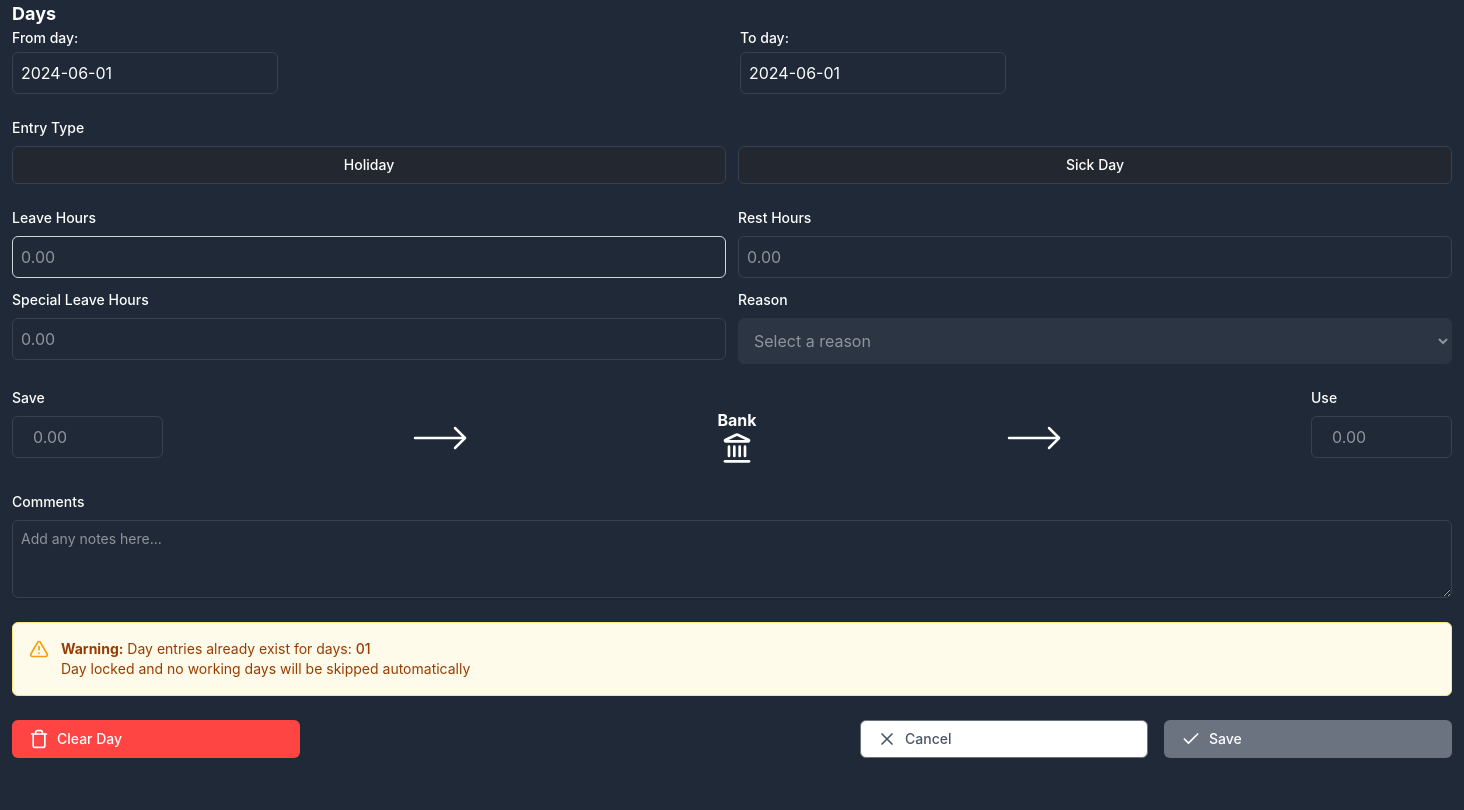
it: EditDayEntry › rejects a bank withdrawal above the hours available after task work
In the number field with test id "get-from-bank-hour-input": (1382, 437) x1=1311 y1=416 x2=1452 y2=458, type "1"
(page scrolled)
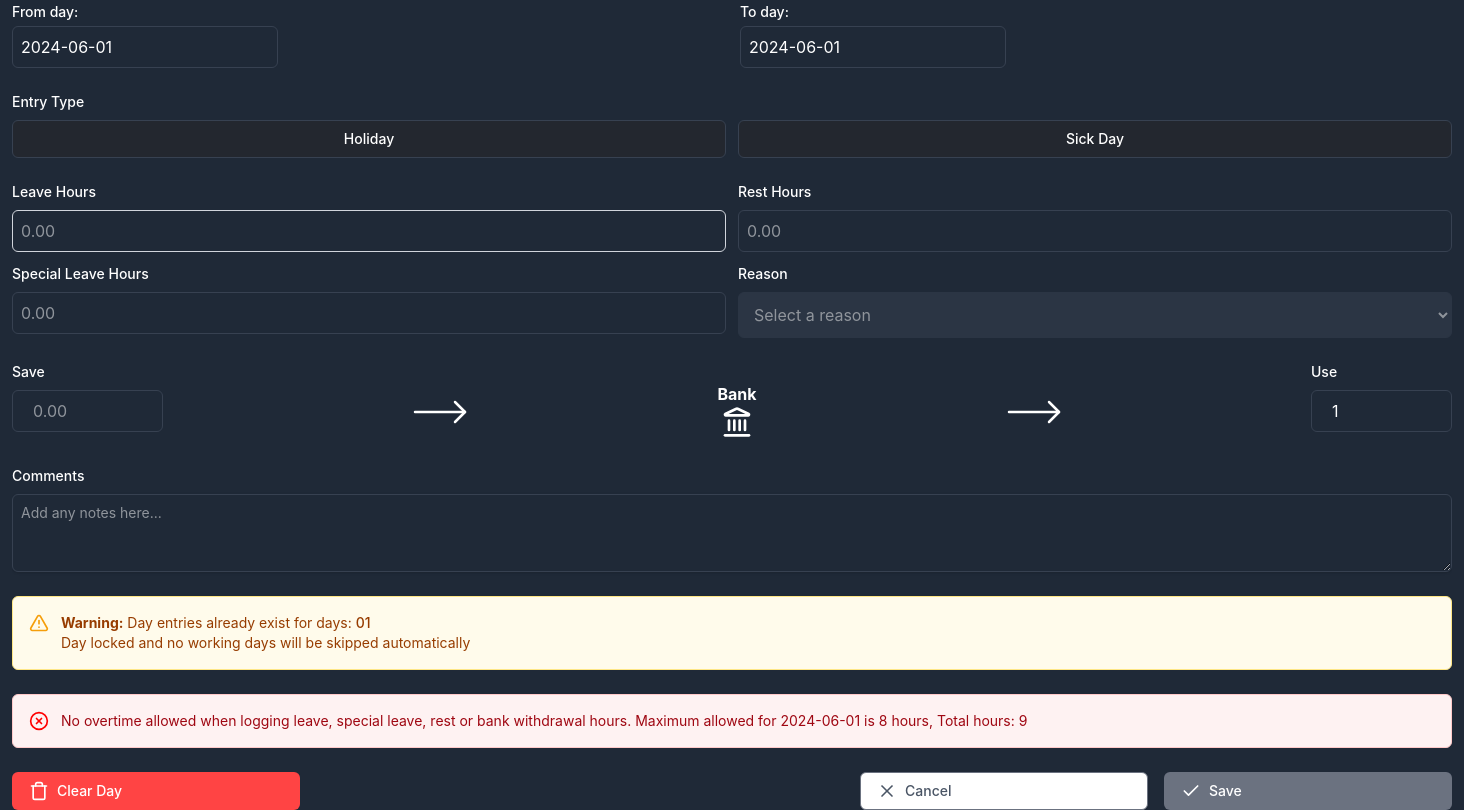
Expected: the button with test id "day-entry-submit-button" is disabled, x1=1164 y1=772 x2=1452 y2=809
Expected: the text "bank withdrawal hours" is shown, x1=61 y1=712 x2=1027 y2=729
